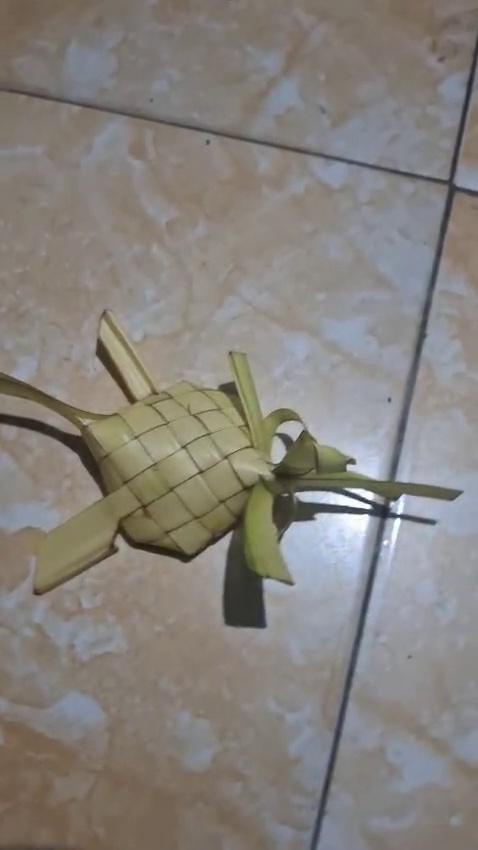Tipat Dampulan: (0, 307, 462, 601)
